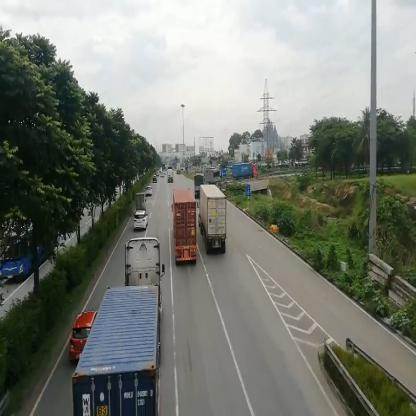bus: (2, 229, 40, 281)
car: (74, 306, 93, 363), (135, 212, 148, 230), (146, 188, 152, 196)
container: (104, 236, 161, 416), (174, 189, 198, 268), (202, 185, 227, 253), (234, 166, 260, 180)
truck: (208, 172, 225, 188), (136, 193, 146, 210), (167, 168, 174, 185)
